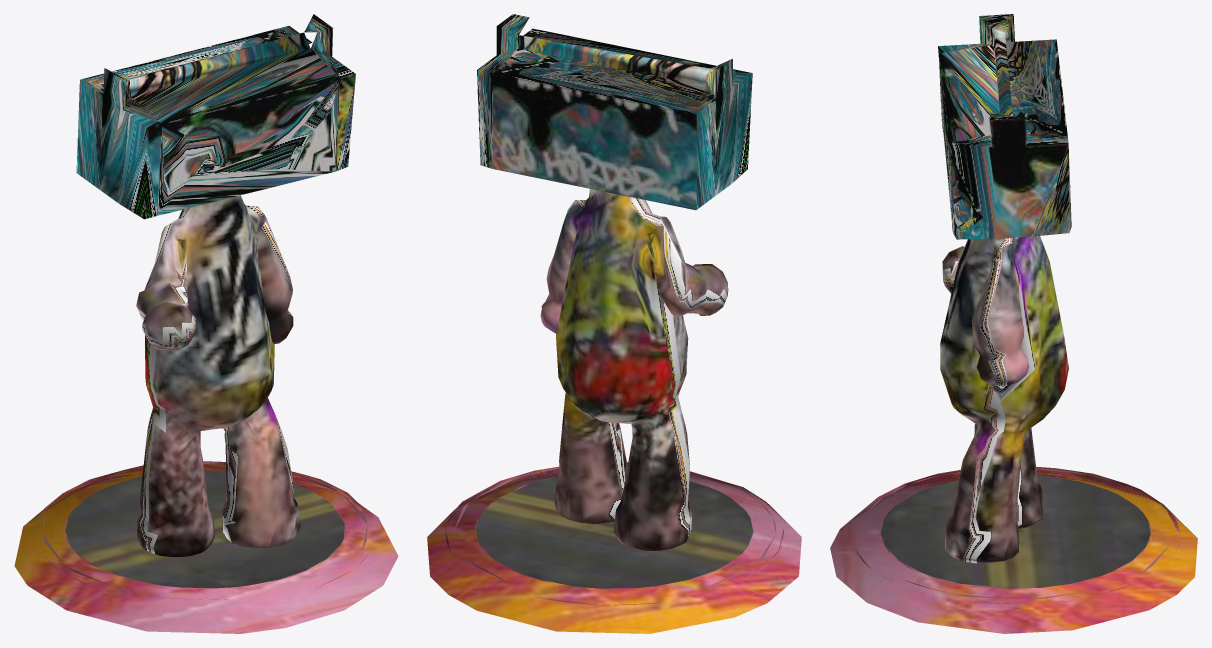
The picture shows the model from 3 angles, left to right: view 1: azimuth 30°, elevation 25°; view 2: azimuth 150°, elevation 25°; view 3: azimuth 270°, elevation 25°; orthographic projection. The views are drawn at different scales.
Bounding box in the file's own units: 1.44 × 2.11 × 1.43.
Materials: 4 (4 with a texture image).
